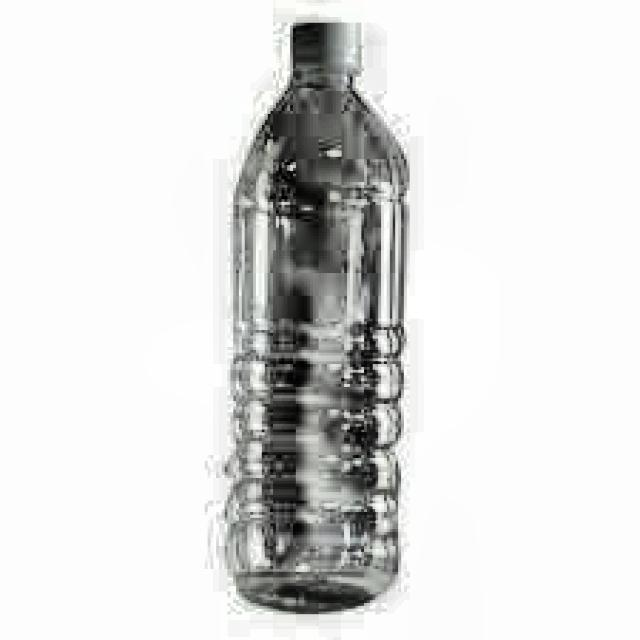plastic bottle: (228, 24, 409, 612)
